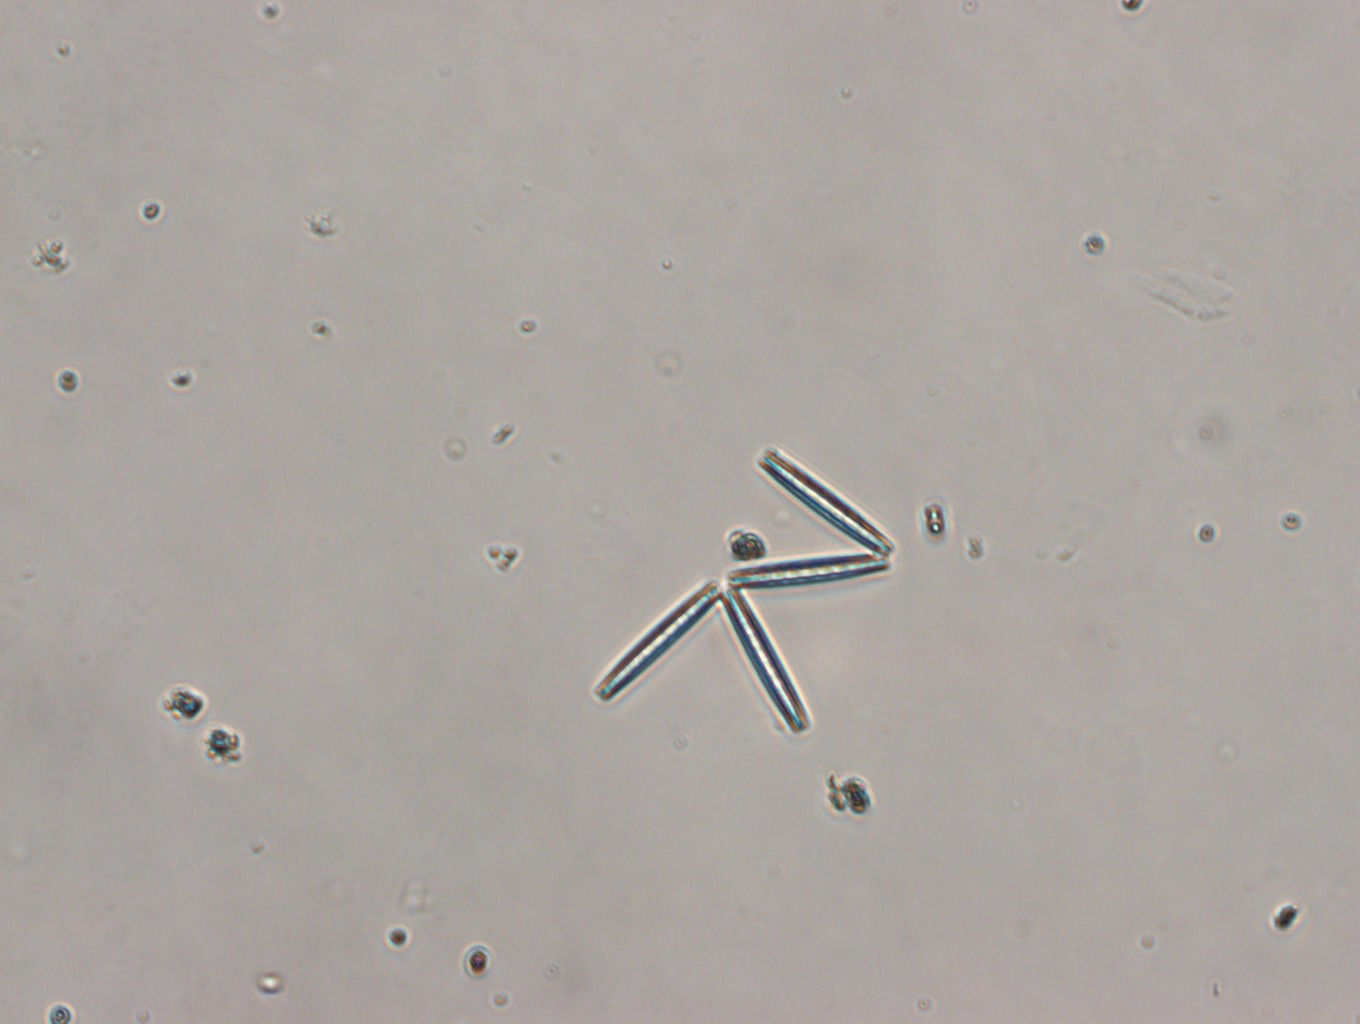thalassionema nitzschioides: (590, 440, 898, 734)
